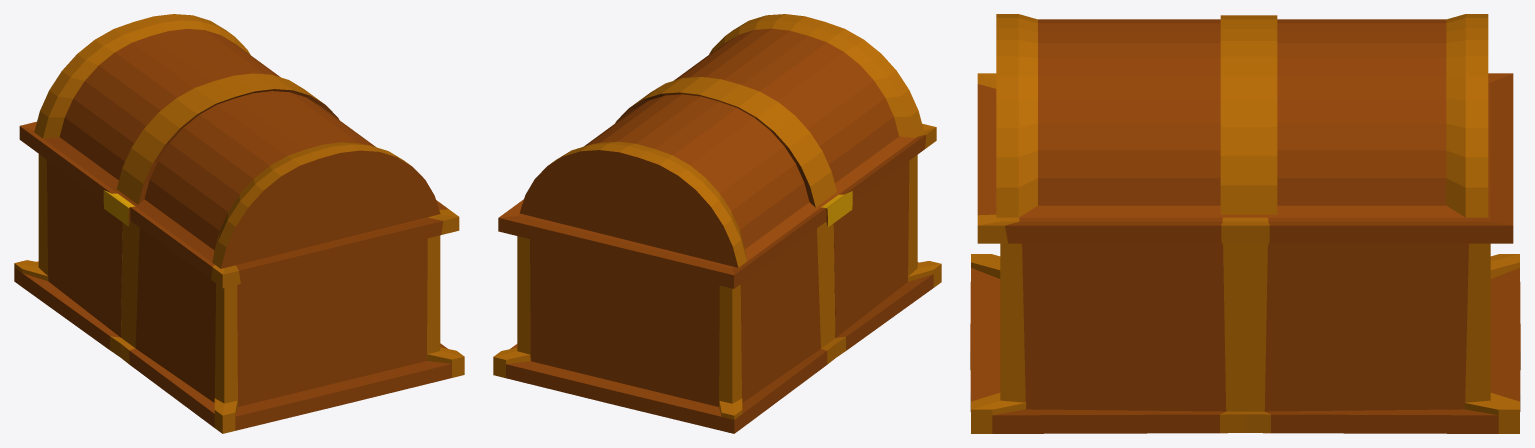
Rendered from Bau.fbx.
3 views of the same model, side by side, from view 1: azimuth 30°, elevation 25°; view 2: azimuth 150°, elevation 25°; view 3: azimuth 270°, elevation 25° (orthographic). The views are drawn at different scales.
Visible parts, largest first — view 1: Cube, Circle.001; view 2: Cube, Circle.001; view 3: Cube, Circle.001.
Part boxes in pixels (x1,y1,x2,y2): Cube: (14,121,464,433); Circle.001: (34,14,440,268); Cube: (493,123,941,433); Circle.001: (519,14,924,267); Cube: (970,73,1520,433); Circle.001: (996,14,1488,217).
Size of the model in its own units: 240 by 228 by 355.
